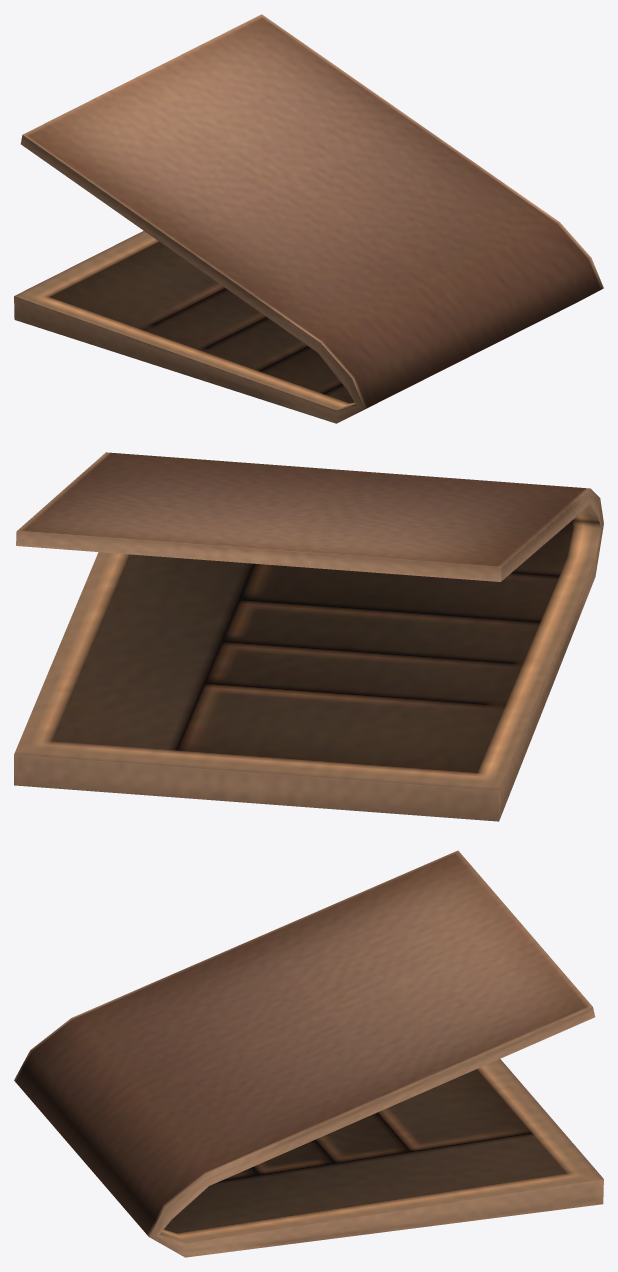
File: TouKuiZheJia_01_qianbao_01.FBX
3 renders of one model, top to bottom at view 1: azimuth 30°, elevation 25°; view 2: azimuth 150°, elevation 25°; view 3: azimuth 270°, elevation 25°, orthographic. The views are drawn at different scales.
Visible parts, largest first — view 1: TouKuiZheJia_qianbao_01; view 2: TouKuiZheJia_qianbao_01; view 3: TouKuiZheJia_qianbao_01.
Part boxes in pixels (left/top/right/bottom): TouKuiZheJia_qianbao_01: left=14, top=14, right=603, bottom=423; TouKuiZheJia_qianbao_01: left=14, top=452, right=603, bottom=821; TouKuiZheJia_qianbao_01: left=14, top=850, right=603, bottom=1257.
Bounding box in the file's own units: 87.62 × 35.87 × 96.44.
